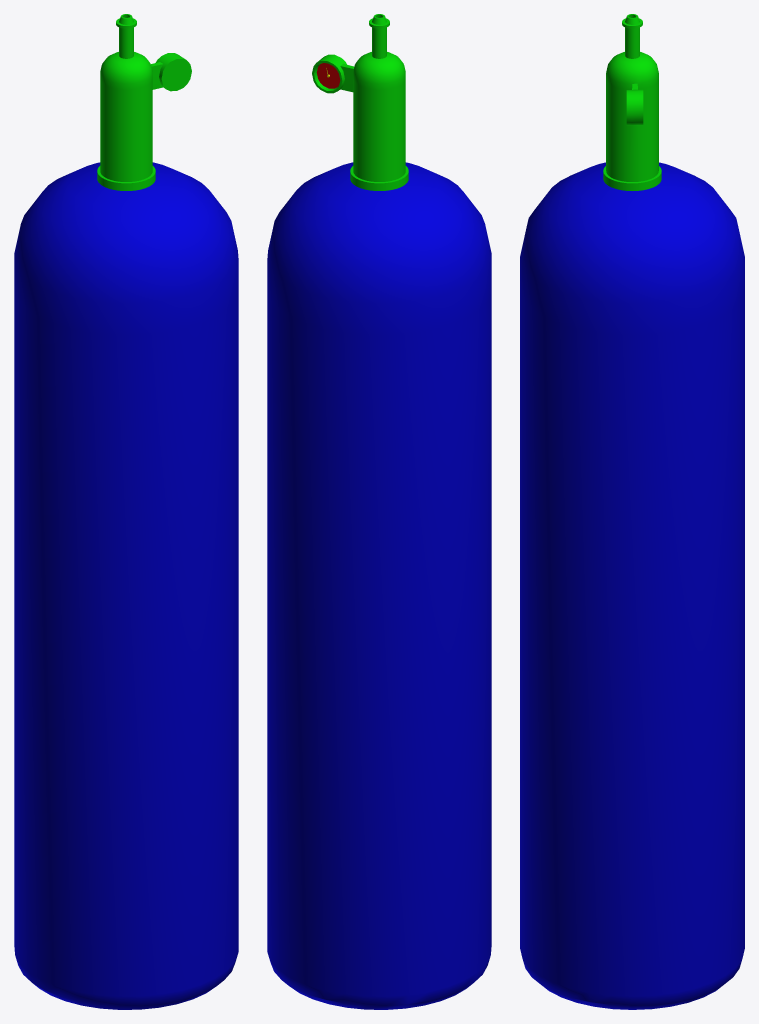
The model's file is Gas Canister.fbx.
3 views of the same model, side by side, from view 1: azimuth 30°, elevation 25°; view 2: azimuth 150°, elevation 25°; view 3: azimuth 270°, elevation 25° (orthographic).
Visible parts, largest first — view 1: Gas canister; view 2: Gas canister; view 3: Gas canister.
Part boxes in pixels (<box>): Gas canister: <box>14,14,238,1009</box>; Gas canister: <box>267,14,491,1009</box>; Gas canister: <box>520,14,744,1009</box>.
Bounding box in the file's own units: 54.01 × 253 × 54.01.
